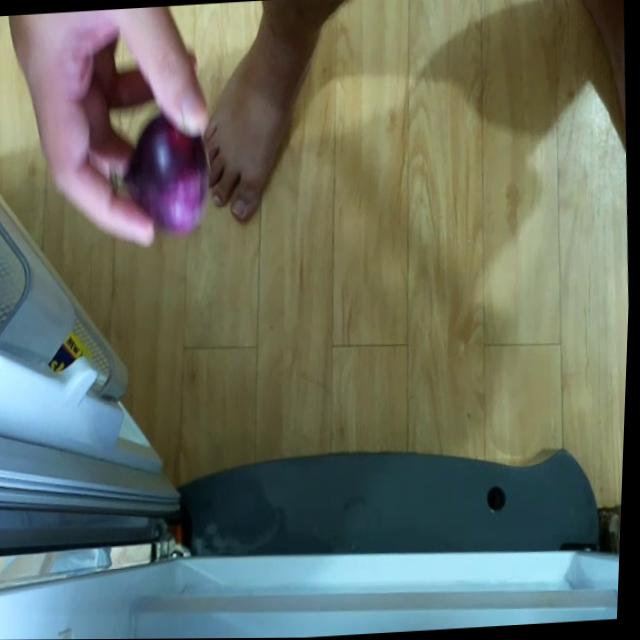onion: (124, 114, 219, 240)
